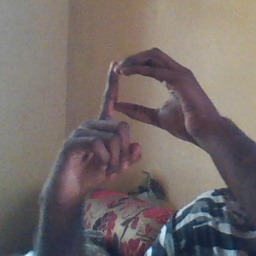P: (69, 45, 206, 187)
